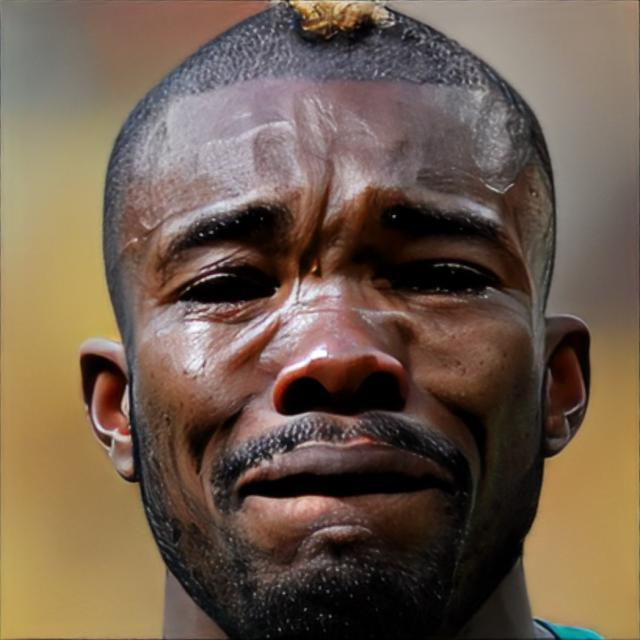sad: (124, 81, 544, 640)
